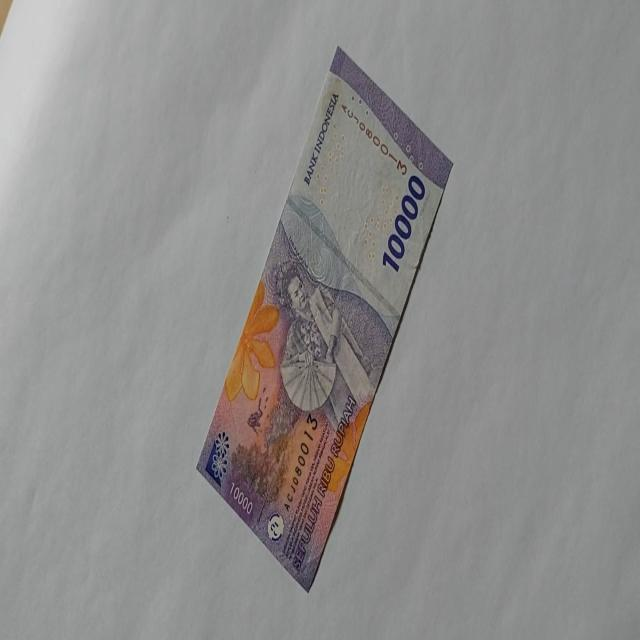sepuluh ribu rupiah: (194, 44, 454, 593)
